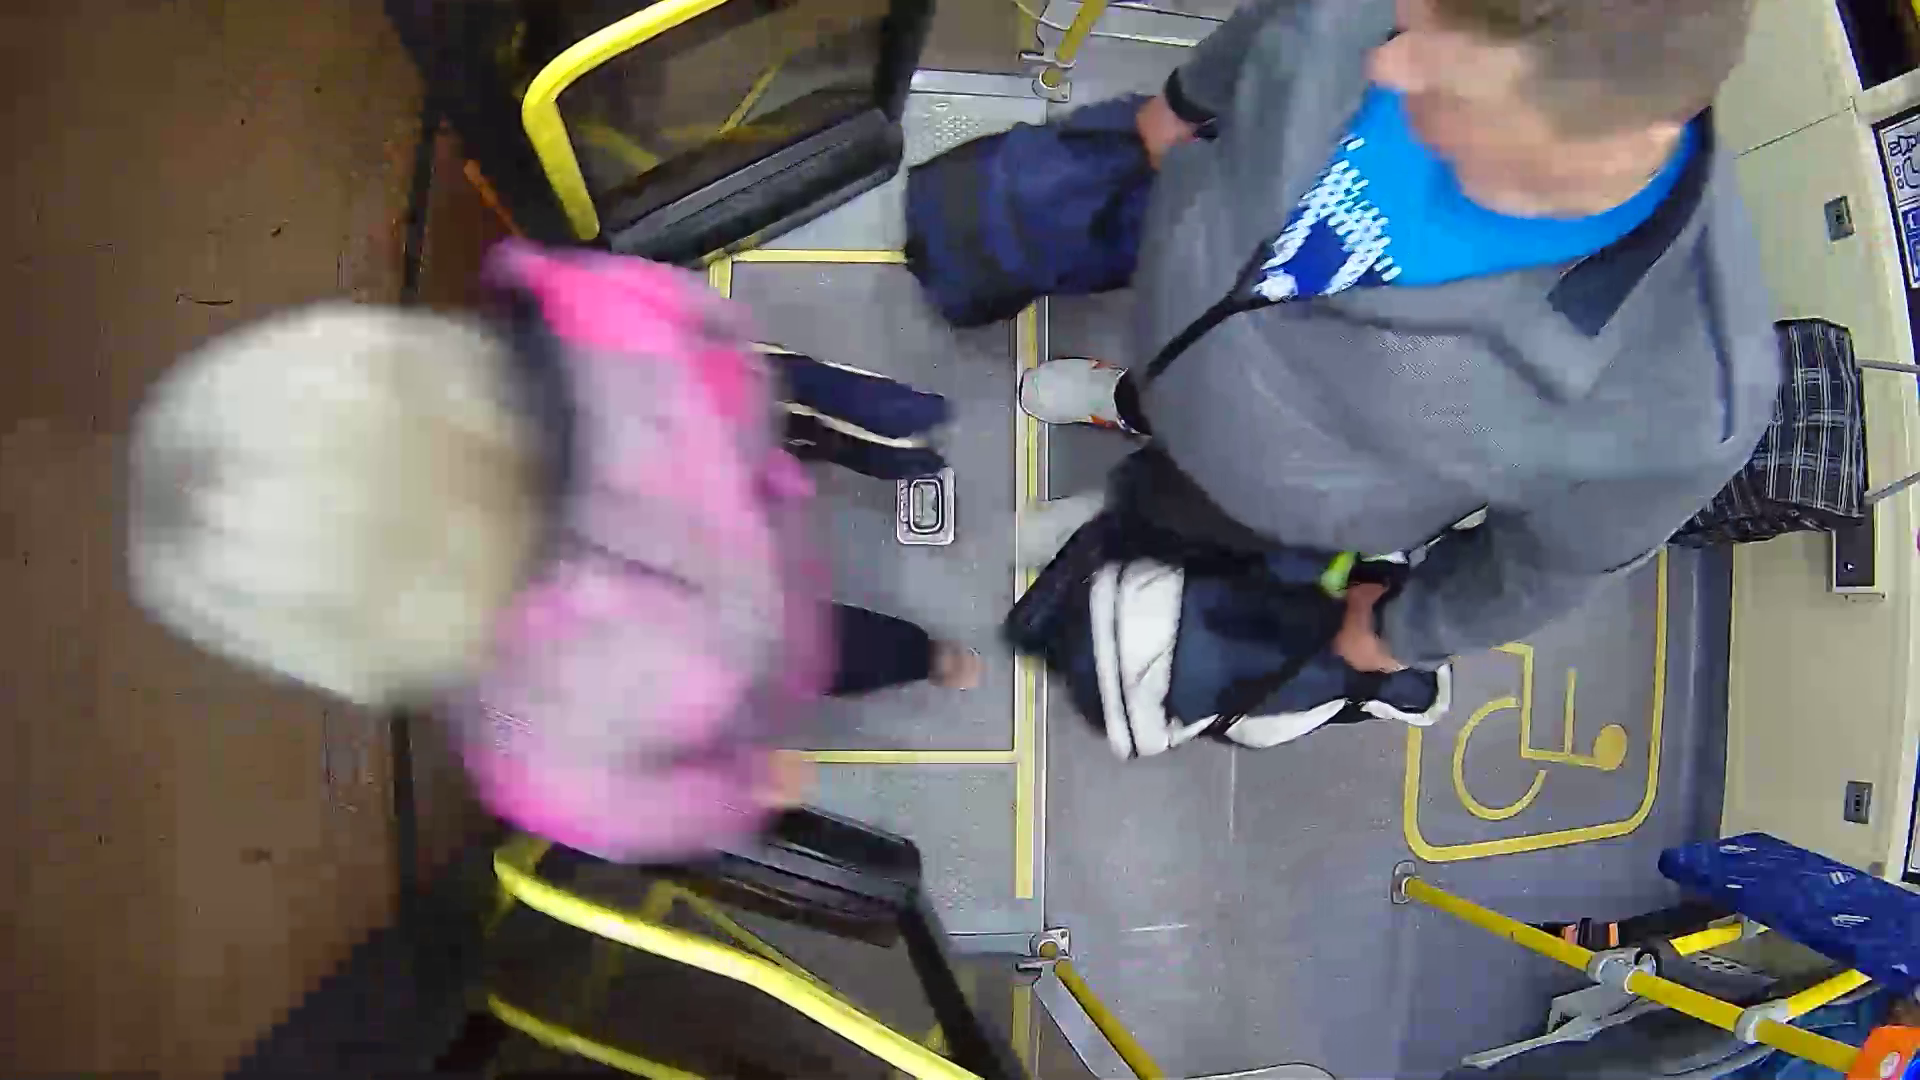person: (993, 4, 1810, 768), (155, 273, 854, 854)
